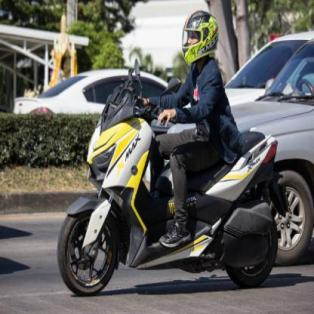Motocicleta: (54, 80, 282, 300)
